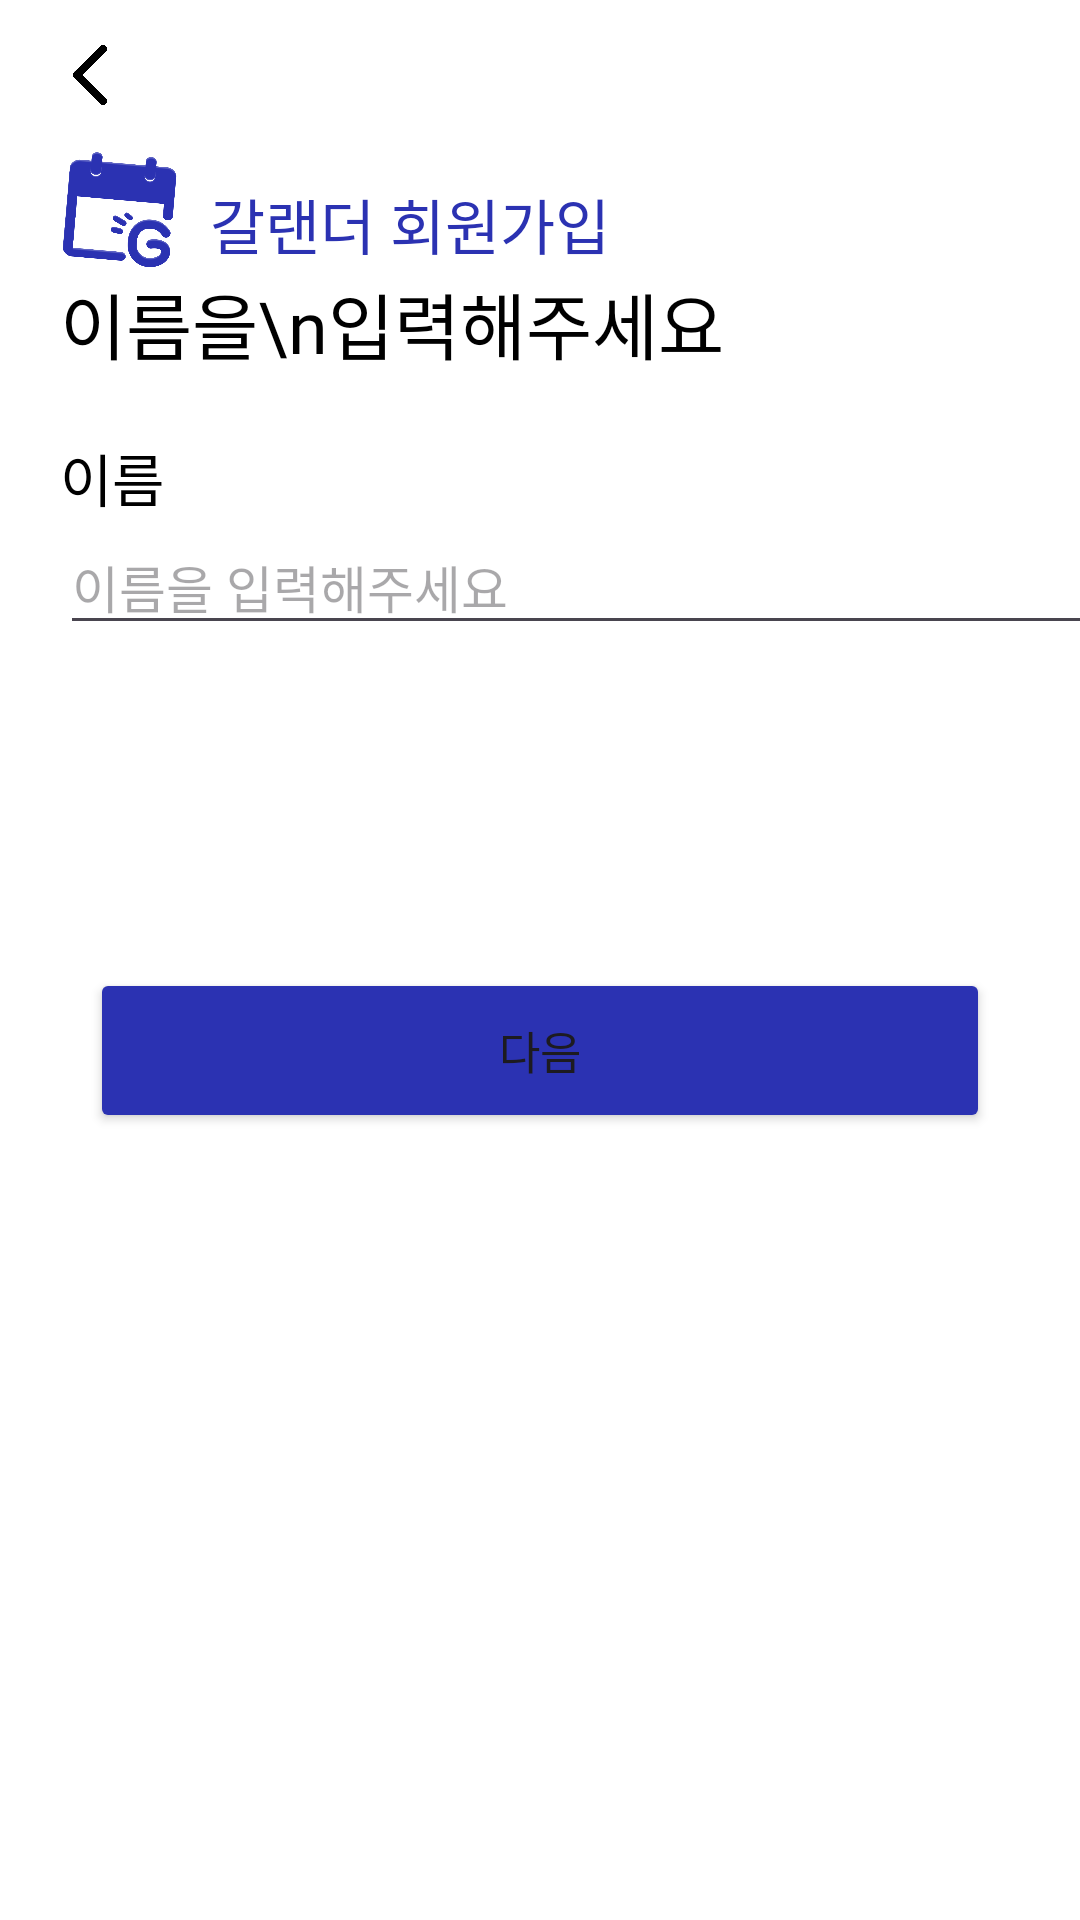

Where to tap for icons on this 1080x1920 app screen, as point (x, y):
back: point (90, 75)
